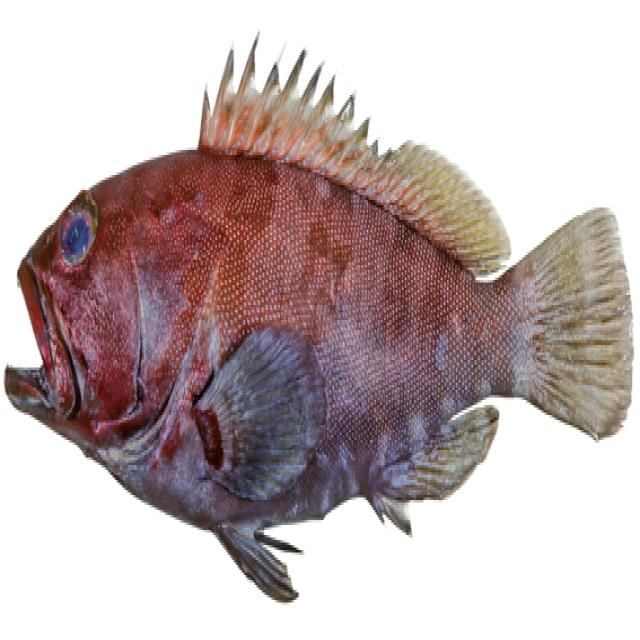ikan: (4, 30, 634, 605)
